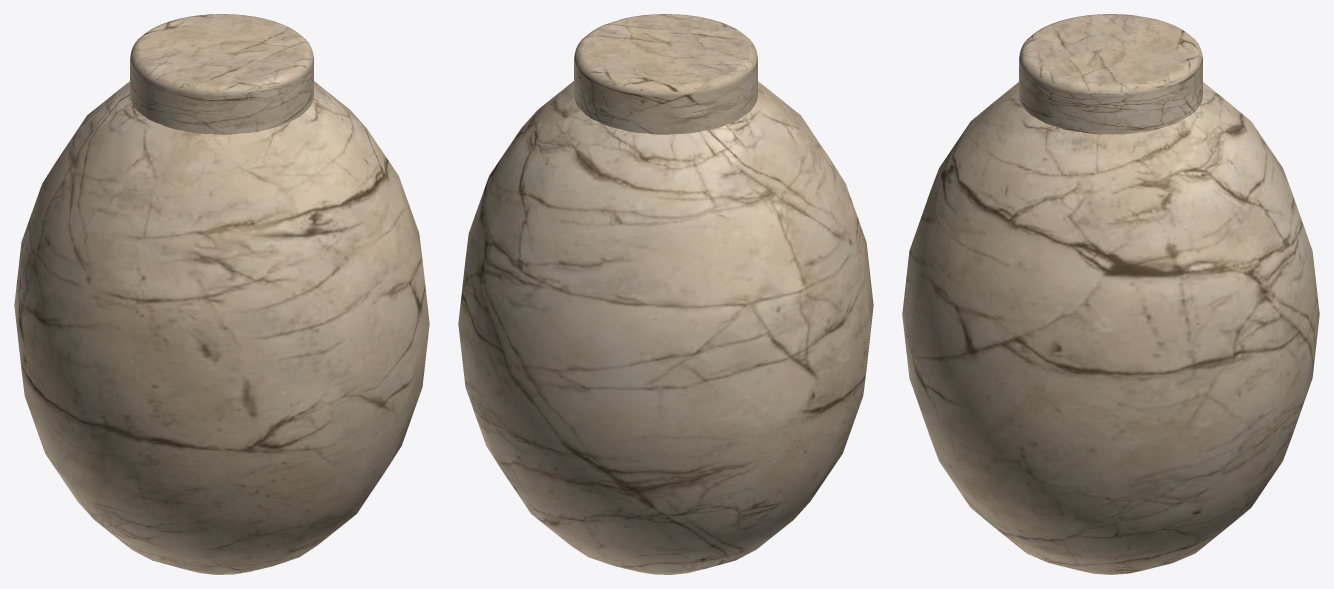
The model's file is vase.glb.
3 renders of one model, left to right at view 1: azimuth 30°, elevation 25°; view 2: azimuth 150°, elevation 25°; view 3: azimuth 270°, elevation 25°, orthographic.
Parts seen in each view (by area): view 1: Hand thrown vessel.006, Vessel neck.006; view 2: Hand thrown vessel.006, Vessel neck.006; view 3: Hand thrown vessel.006, Vessel neck.006.
Part boxes in pixels (x1,y1,x2,y2): Hand thrown vessel.006: [14, 81, 429, 574]; Vessel neck.006: [130, 14, 313, 134]; Hand thrown vessel.006: [458, 81, 873, 574]; Vessel neck.006: [574, 14, 757, 134]; Hand thrown vessel.006: [902, 82, 1319, 574]; Vessel neck.006: [1019, 14, 1202, 134].
Size of the model in its own units: 0.27 by 0.3645 by 0.27.
1 material, 1 textured.
